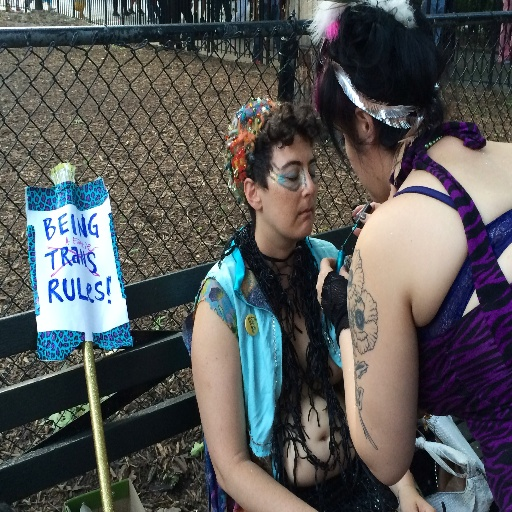hand: (317, 256, 348, 325), (349, 201, 379, 239), (397, 487, 437, 511)
